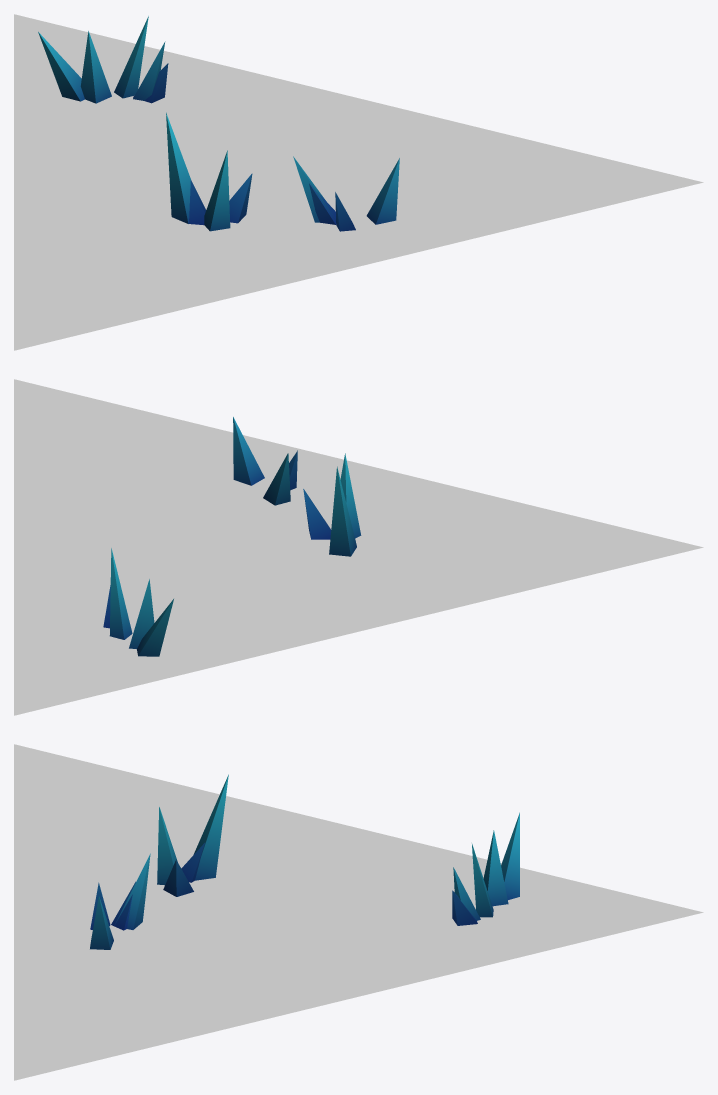
File: MODULE_ALIEN_FULL_3_SPIRES.fbx
3 views of the same model, one above another, from view 1: azimuth 30°, elevation 25°; view 2: azimuth 150°, elevation 25°; view 3: azimuth 270°, elevation 25° (orthographic).
Parts seen in each view (by area): view 1: MODULE_ALIEN_FULL_3_SPIRES__export, MODULE_ALIEN_FULL_3_SPIRES_DECOR__export; view 2: MODULE_ALIEN_FULL_3_SPIRES__export, MODULE_ALIEN_FULL_3_SPIRES_DECOR__export; view 3: MODULE_ALIEN_FULL_3_SPIRES__export, MODULE_ALIEN_FULL_3_SPIRES_DECOR__export.
Boxes of the visible parts, x1,y1,x2,y2 form: MODULE_ALIEN_FULL_3_SPIRES__export: (14,14,703,350); MODULE_ALIEN_FULL_3_SPIRES_DECOR__export: (38,16,399,231); MODULE_ALIEN_FULL_3_SPIRES__export: (14,379,703,715); MODULE_ALIEN_FULL_3_SPIRES_DECOR__export: (103,417,361,656); MODULE_ALIEN_FULL_3_SPIRES__export: (14,744,703,1080); MODULE_ALIEN_FULL_3_SPIRES_DECOR__export: (90,774,519,949).
Bounding box in the file's own units: 100 × 15.68 × 86.6.
